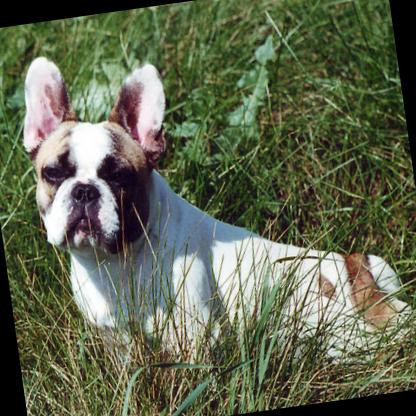French_bulldog: (6, 1, 416, 406)
